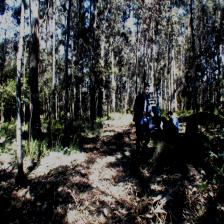trunktrack_idkeyframe: (28, 46, 41, 136), (16, 71, 24, 176)
